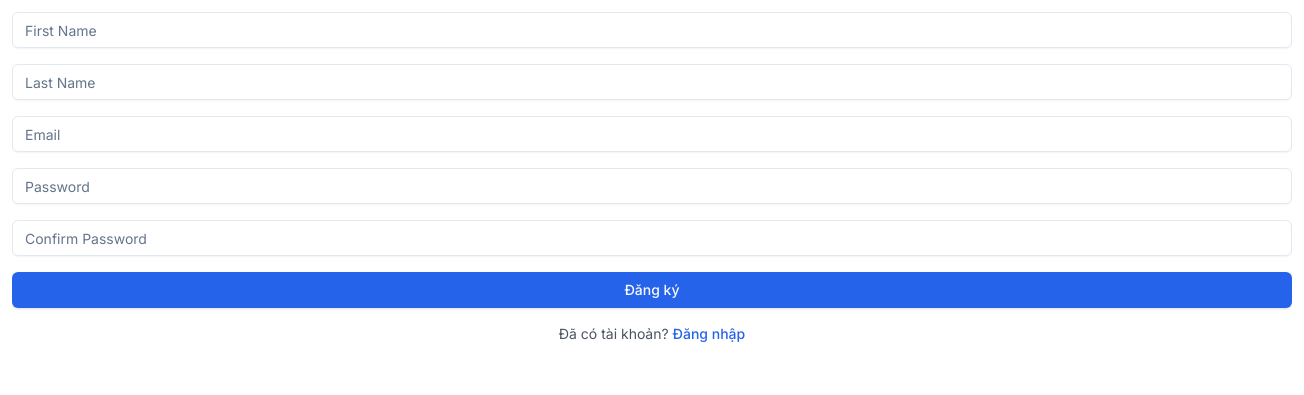
Scenario: RegisterForm › shows error if passwords do not match
In the field with placeholder "First Name": [652, 30] box [12,12,1292,48], type "A"
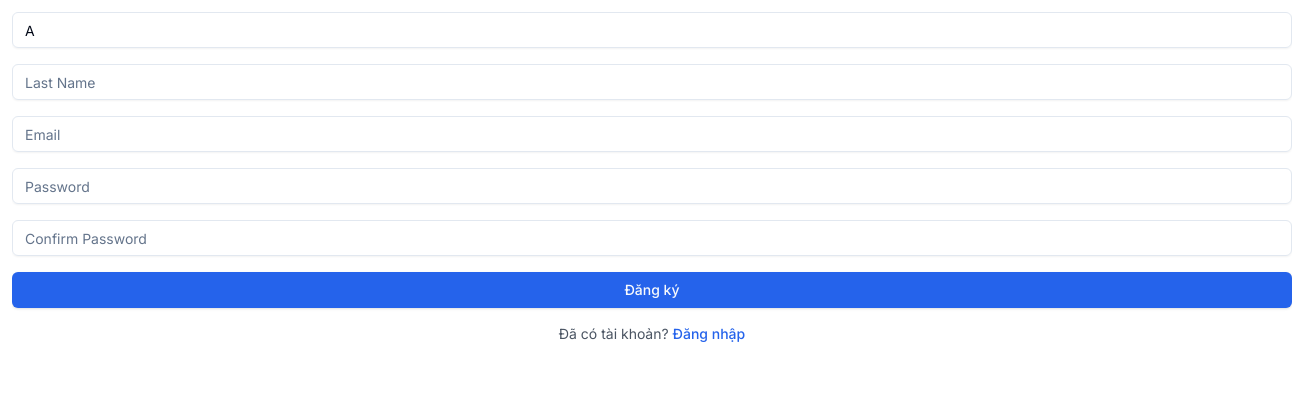
In the field with placeholder "Last Name": [652, 82] box [12,64,1292,100], type "B"
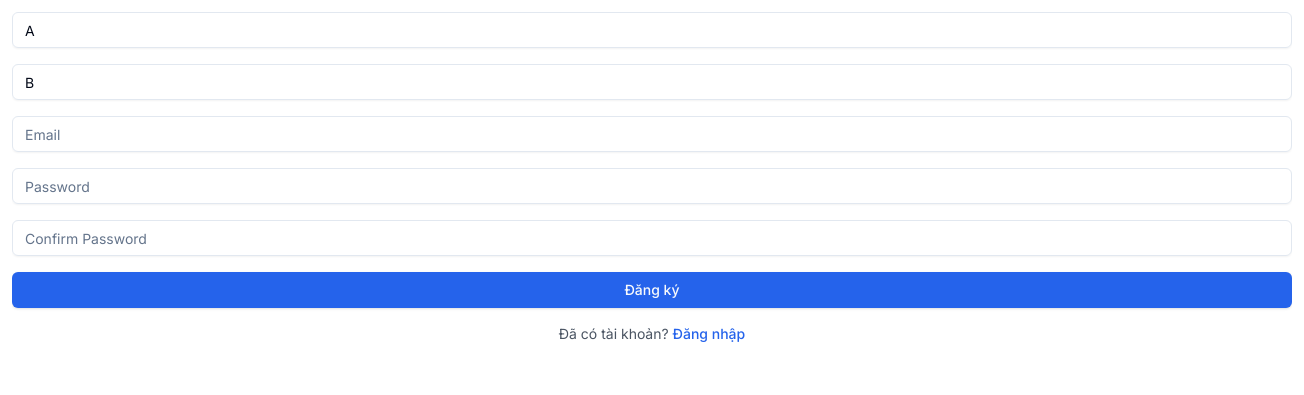
In the field with placeholder "Email": [652, 134] box [12,116,1292,152], type "a@b.com"
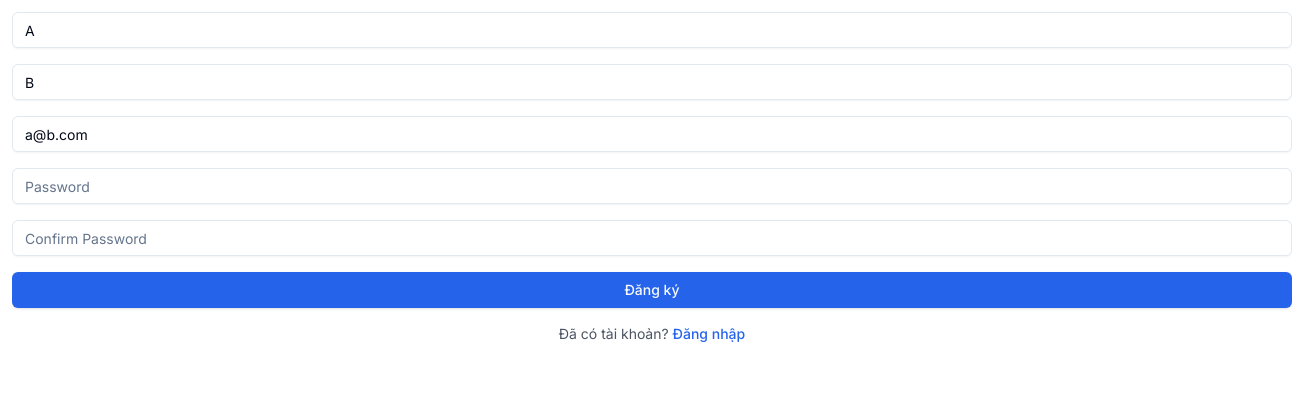
In the password field with placeholder "Password": [652, 186] box [12,168,1292,204], type "123456"
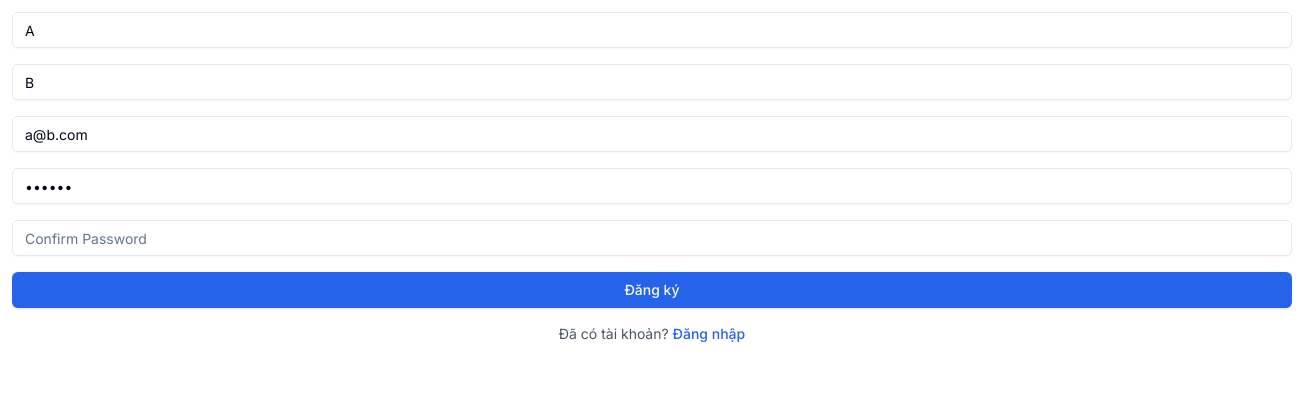
In the password field with placeholder "Confirm Password": [652, 238] box [12,220,1292,256], type "654321"
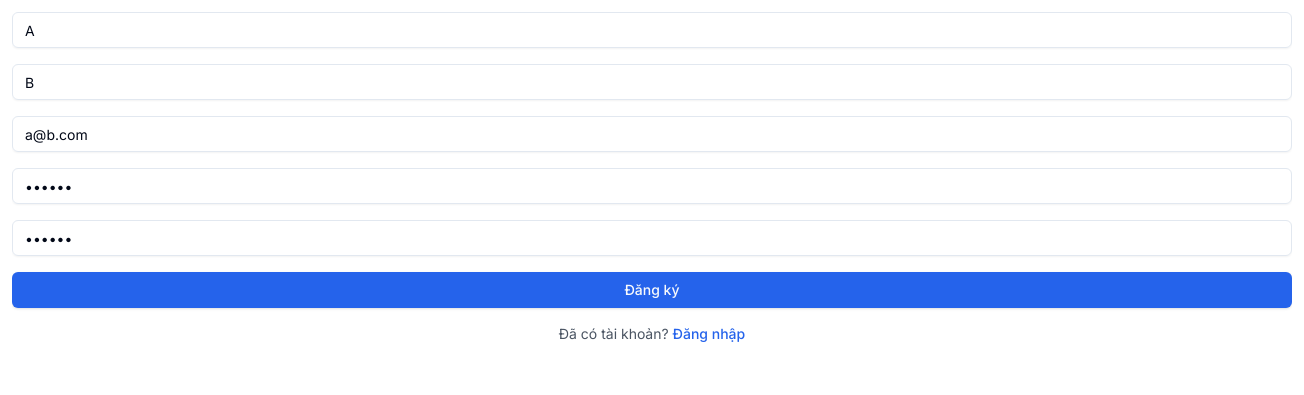
Click the button "Đăng ký": [652, 290] box [12,272,1292,308]
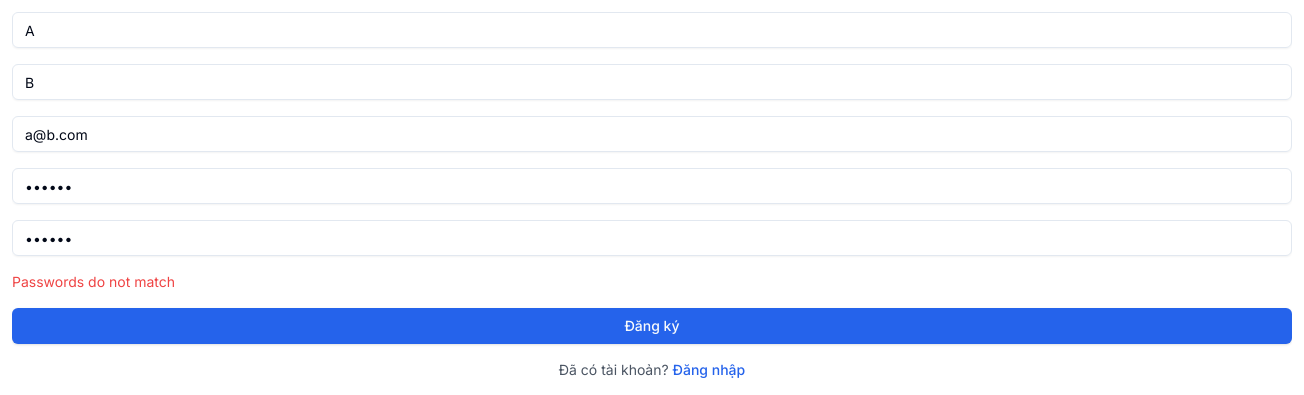
Result: the text "Passwords do not match" is shown at [12,273,175,290]
